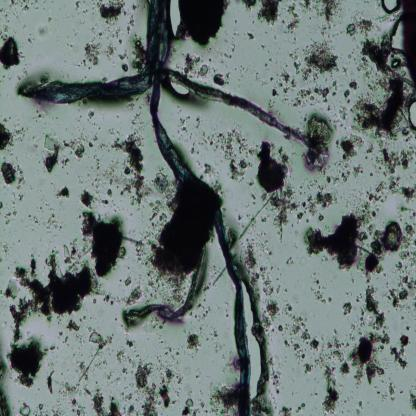Air bubble: (245, 282, 269, 402), (388, 16, 408, 56), (165, 0, 182, 42), (168, 74, 190, 98), (404, 97, 416, 134), (380, 1, 403, 19), (392, 58, 401, 69)
Background material: (137, 186, 222, 291), (5, 242, 95, 336), (351, 135, 416, 218), (254, 138, 302, 239), (342, 286, 390, 384), (301, 210, 363, 270), (351, 76, 409, 136), (134, 346, 183, 416), (107, 133, 152, 207), (358, 219, 402, 285), (82, 209, 124, 278), (284, 36, 340, 85), (277, 302, 321, 359), (181, 0, 231, 45), (84, 330, 128, 381), (59, 358, 95, 416), (302, 113, 334, 172), (4, 341, 44, 387), (88, 0, 127, 45), (224, 125, 254, 183), (316, 352, 343, 415), (302, 187, 339, 222), (400, 0, 415, 85), (63, 131, 110, 156), (387, 274, 416, 313), (362, 39, 394, 74), (179, 116, 207, 156), (207, 382, 241, 414), (0, 119, 32, 150), (332, 129, 362, 162), (0, 32, 24, 72), (318, 0, 344, 36), (399, 221, 416, 276), (294, 83, 331, 107), (108, 385, 136, 416), (327, 328, 350, 364), (146, 195, 169, 230), (254, 0, 283, 27), (76, 40, 102, 70), (39, 137, 60, 172), (183, 54, 210, 81), (324, 161, 351, 188), (124, 107, 149, 136), (390, 334, 410, 370), (281, 0, 302, 33), (377, 380, 406, 402), (0, 360, 11, 415), (184, 389, 206, 416), (89, 152, 102, 196), (353, 59, 375, 85), (153, 174, 174, 201), (267, 358, 281, 398), (342, 19, 374, 36), (260, 259, 272, 299), (93, 387, 110, 415), (124, 286, 145, 308), (206, 130, 226, 152), (133, 37, 146, 70), (47, 211, 66, 233), (242, 242, 258, 268), (297, 178, 326, 192), (252, 396, 272, 416), (184, 333, 200, 356), (312, 279, 327, 303), (1, 279, 20, 297), (83, 184, 96, 210), (2, 162, 16, 186), (258, 311, 273, 333), (266, 300, 281, 322), (8, 0, 30, 14), (212, 70, 232, 85), (200, 160, 216, 178), (150, 314, 168, 330), (302, 0, 319, 16), (4, 209, 19, 227), (189, 96, 208, 110), (227, 352, 240, 372), (16, 163, 26, 188), (25, 210, 40, 226), (211, 179, 225, 196), (209, 324, 221, 343), (197, 306, 211, 322), (48, 368, 56, 396), (240, 0, 258, 12), (68, 319, 82, 334), (106, 43, 117, 61), (35, 402, 49, 416), (54, 186, 70, 198), (126, 14, 136, 33), (228, 228, 237, 249), (19, 402, 32, 416), (278, 404, 293, 416), (0, 23, 10, 41), (331, 78, 340, 98), (249, 270, 260, 286), (0, 6, 10, 23), (134, 237, 145, 252), (341, 362, 352, 377), (268, 87, 276, 107), (221, 49, 234, 61), (123, 96, 134, 110), (59, 154, 70, 168), (49, 405, 63, 416), (294, 402, 308, 413), (340, 102, 348, 120), (0, 241, 8, 259), (304, 361, 315, 374), (104, 294, 115, 307), (260, 240, 270, 254), (409, 391, 416, 411), (356, 398, 363, 416), (37, 27, 48, 38), (238, 63, 250, 73), (35, 110, 43, 124), (342, 88, 352, 99), (77, 313, 88, 323), (295, 209, 305, 220), (107, 187, 116, 199), (352, 11, 364, 20), (248, 192, 257, 204), (127, 357, 136, 368), (282, 86, 289, 100), (342, 62, 349, 76), (76, 172, 83, 185), (349, 81, 359, 90), (76, 334, 85, 344), (50, 344, 61, 352), (87, 110, 95, 121), (120, 51, 128, 62), (120, 62, 128, 73), (259, 40, 267, 51), (274, 282, 281, 294), (29, 35, 36, 47), (259, 214, 267, 224), (32, 0, 40, 10), (126, 338, 134, 348), (343, 395, 352, 403), (42, 0, 48, 12), (88, 324, 95, 334), (231, 37, 236, 51), (90, 296, 96, 307), (234, 27, 240, 38), (317, 213, 325, 221), (247, 33, 255, 41), (82, 7, 90, 15), (376, 0, 382, 10), (269, 73, 275, 83), (76, 0, 82, 10), (348, 52, 356, 59), (248, 180, 255, 188), (66, 40, 73, 48), (18, 192, 24, 201), (237, 214, 242, 224), (103, 198, 109, 206), (272, 33, 278, 41), (132, 4, 140, 10), (0, 202, 6, 210), (362, 0, 371, 5), (64, 335, 70, 342), (261, 80, 268, 86), (263, 61, 269, 68), (16, 74, 22, 81), (126, 278, 131, 286), (268, 251, 276, 256), (294, 34, 298, 44), (255, 72, 259, 82), (405, 325, 411, 331), (260, 231, 266, 237), (226, 311, 231, 318), (287, 257, 292, 264), (351, 277, 355, 285), (314, 390, 318, 398), (268, 266, 274, 271), (59, 330, 64, 336), (159, 339, 165, 344), (346, 291, 352, 296), (102, 76, 106, 83), (328, 296, 332, 303), (352, 37, 357, 42), (400, 315, 404, 321), (234, 18, 238, 24), (374, 386, 379, 390), (269, 57, 273, 62), (40, 206, 44, 210), (48, 18, 52, 22), (78, 214, 81, 218), (134, 34, 138, 37), (114, 318, 118, 321), (414, 385, 416, 390), (235, 67, 237, 71), (309, 16, 311, 20), (412, 386, 414, 388)
Cellulose filter fibre: (163, 60, 305, 143), (121, 252, 218, 330)
Cotton: (24, 0, 250, 416)
